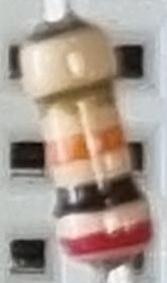Black: (59, 173, 146, 217)
Orange: (49, 126, 126, 166)
Red: (64, 220, 152, 256)
Side-Gold: (34, 74, 117, 117)
